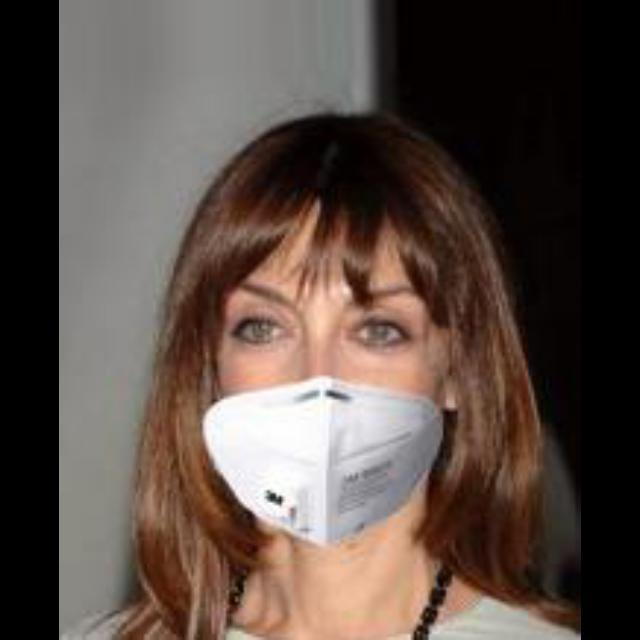suspicion: (196, 193, 504, 554)
